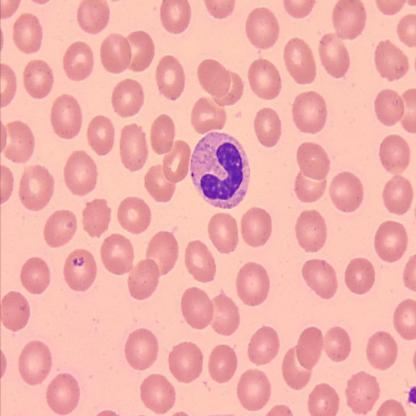Band Neutrophil: (188, 130, 254, 212)
